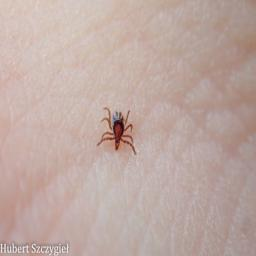Ixodes scapularis: (97, 105, 137, 156)
